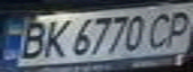0: (124, 11, 151, 52)
6: (69, 15, 97, 57)
7: (87, 14, 115, 56), (109, 12, 133, 54)
B: (9, 18, 51, 61)
C: (142, 9, 178, 50)
K: (36, 16, 72, 60)
P: (157, 7, 193, 47)
